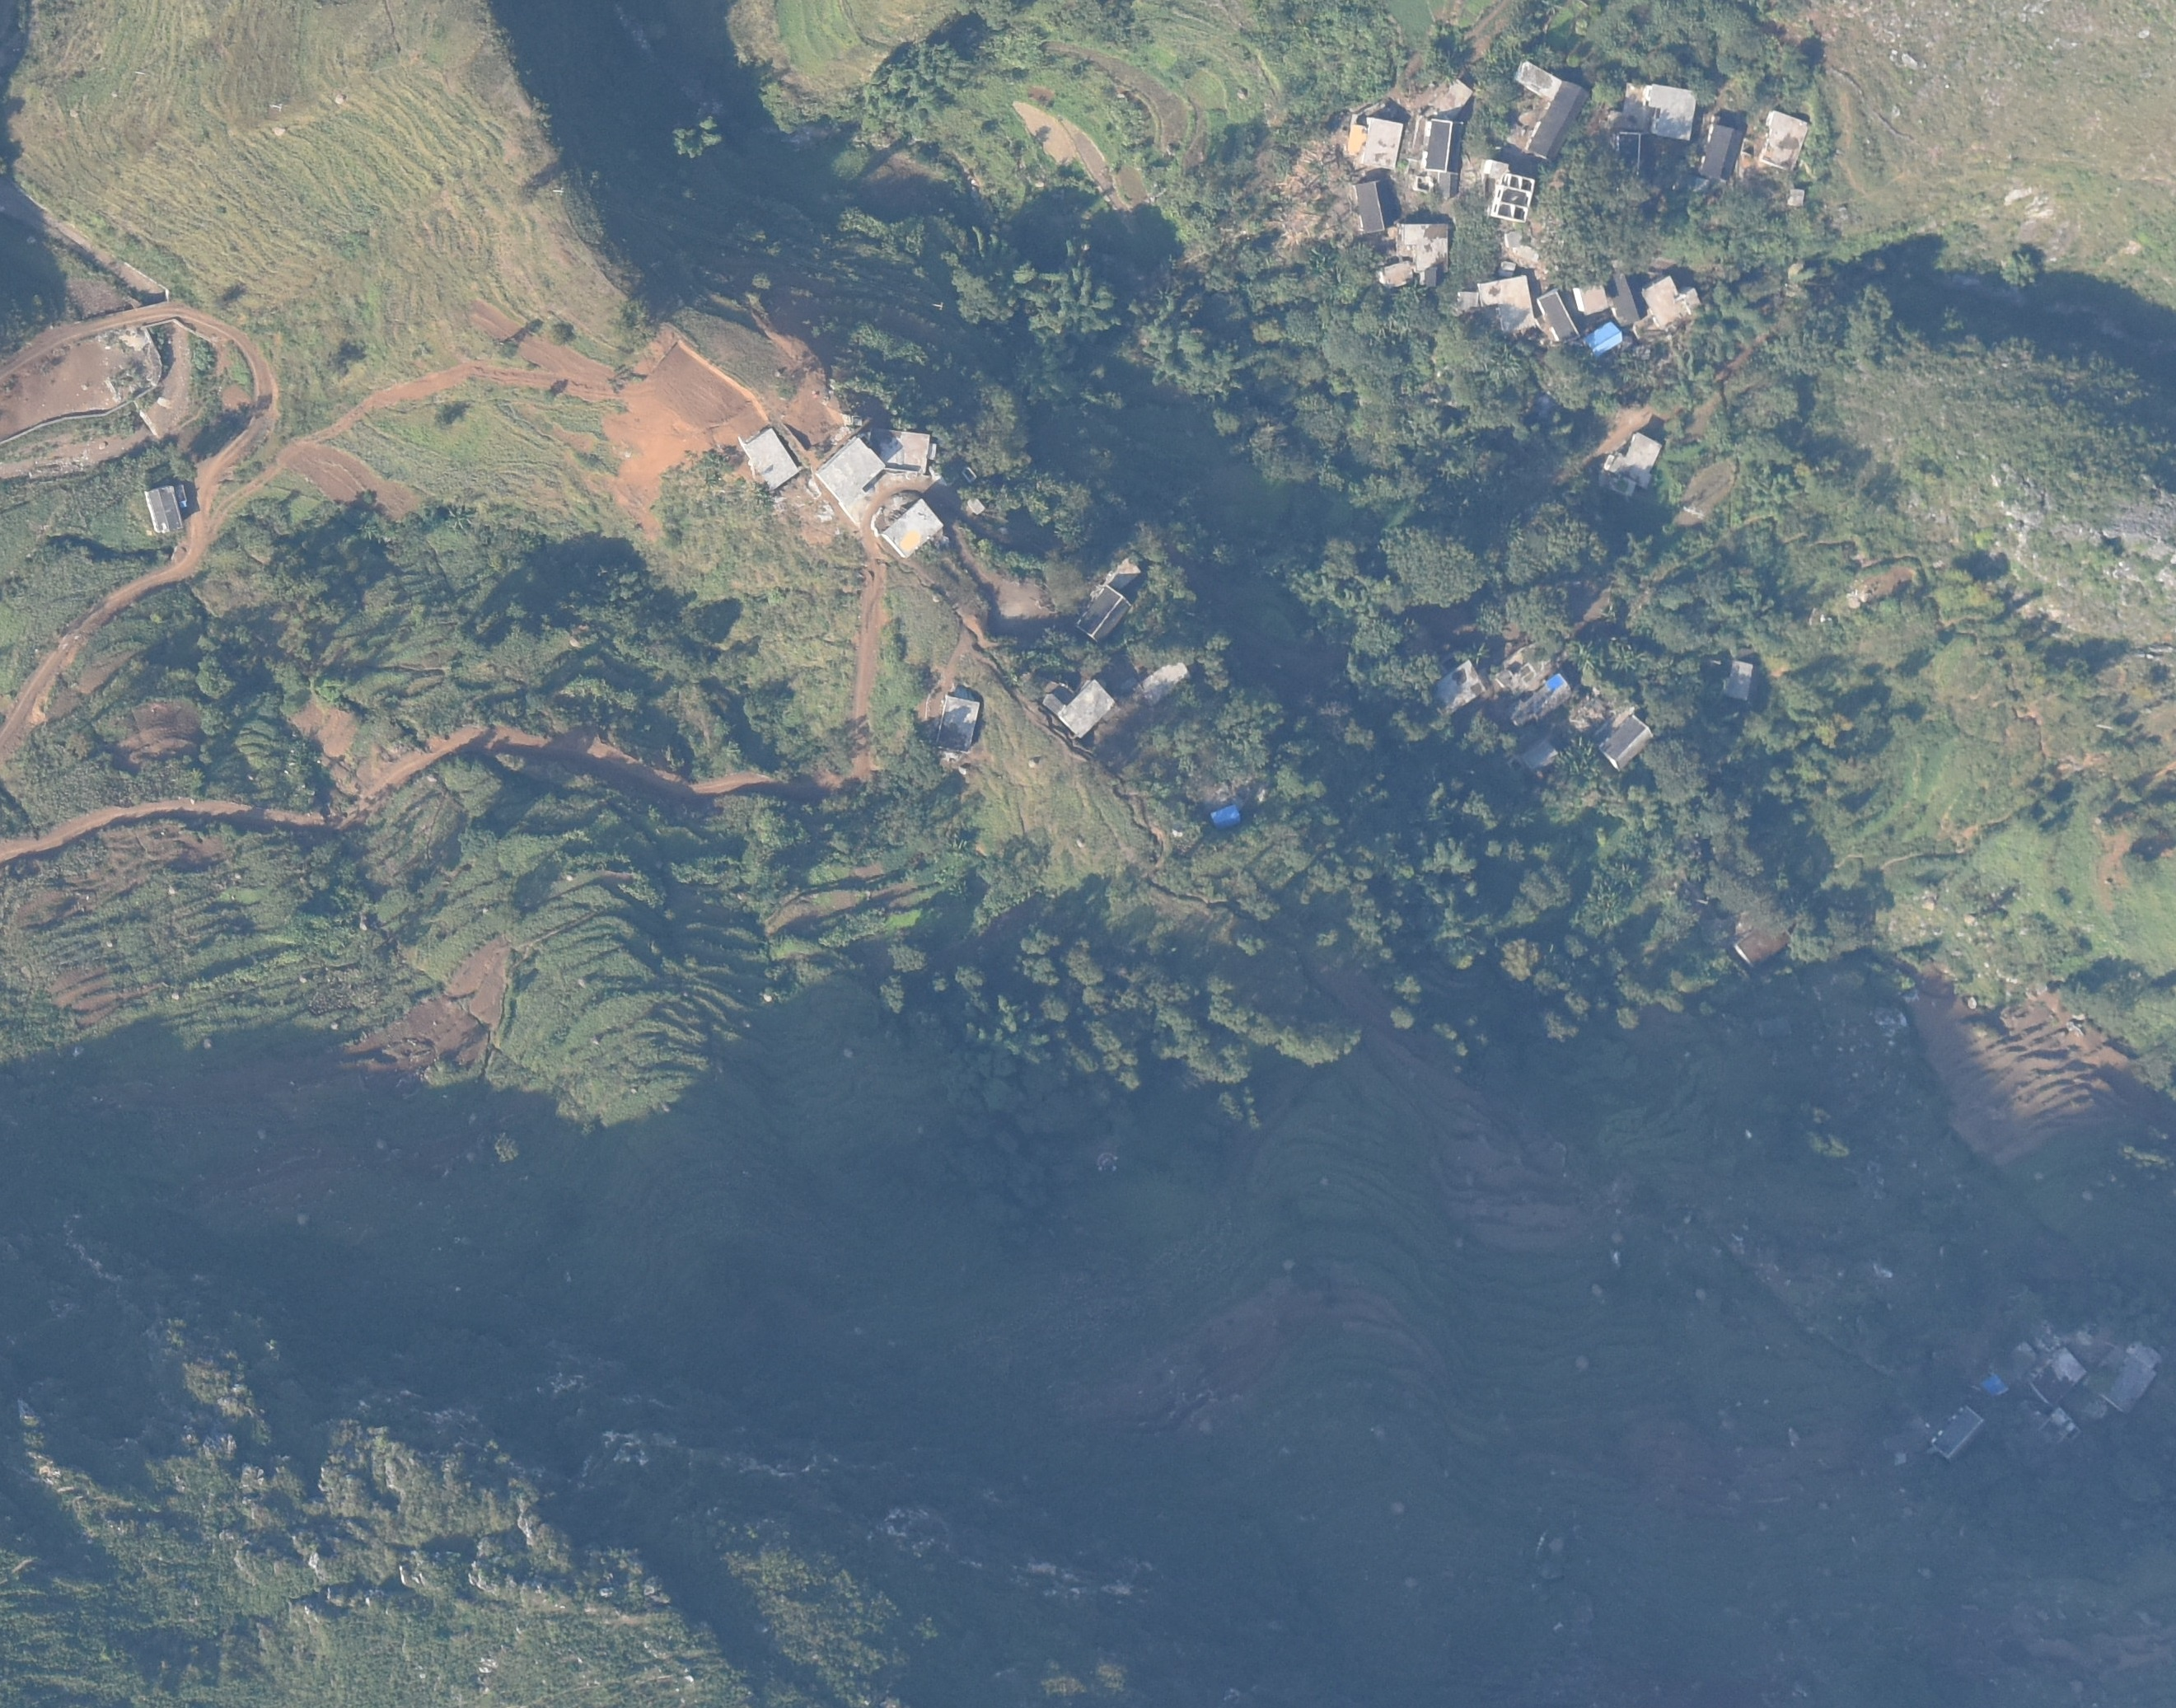building: (1990, 1342, 2084, 1433), (1517, 62, 1589, 161), (1420, 82, 1472, 199), (1620, 82, 1696, 140), (812, 439, 882, 502), (1458, 278, 1537, 330), (1043, 678, 1110, 737), (2105, 1340, 2157, 1414), (742, 423, 799, 490), (1603, 430, 1659, 494), (1598, 714, 1658, 774), (1928, 1402, 1987, 1462), (882, 500, 941, 557), (1484, 160, 1532, 224), (1402, 222, 1452, 283), (1076, 585, 1128, 643), (1645, 275, 1699, 330), (1428, 662, 1486, 713), (1515, 677, 1574, 725), (1697, 122, 1743, 183), (935, 694, 981, 752), (1350, 116, 1400, 167), (1763, 115, 1809, 171), (1137, 658, 1191, 705), (1740, 916, 1791, 964), (1538, 284, 1580, 340), (881, 427, 929, 475), (1610, 269, 1648, 325), (1355, 180, 1390, 234), (1493, 650, 1547, 684), (145, 487, 183, 531), (1617, 130, 1650, 182), (1723, 657, 1753, 702), (1106, 555, 1141, 592), (1572, 282, 1610, 316), (1521, 740, 1559, 772), (1379, 261, 1414, 287), (967, 497, 984, 517), (1787, 188, 1805, 204)
prefabricated-house: (1582, 324, 1623, 356), (1212, 807, 1242, 831)
vehicle: (175, 484, 190, 508)
